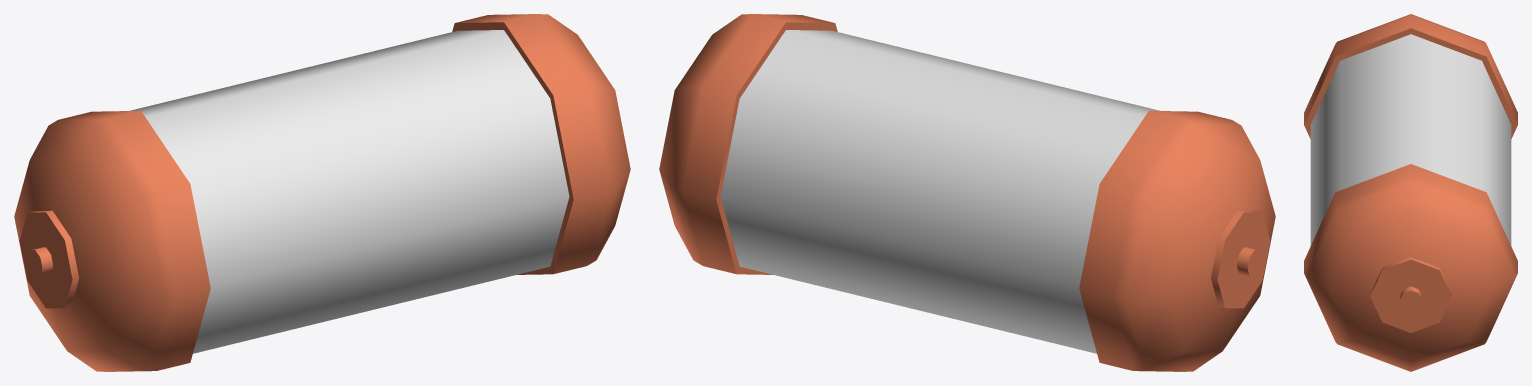
File: réservoir.fbx
3 views of the same model, side by side, from view 1: azimuth 30°, elevation 25°; view 2: azimuth 150°, elevation 25°; view 3: azimuth 270°, elevation 25° (orthographic). The views are drawn at different scales.
Parts seen in each view (by area): view 1: verre, Réservoir; view 2: verre, Réservoir; view 3: Réservoir, verre.
Part boxes in pixels (x1,y1,x2,y2): verre: [129, 30, 569, 353]; Réservoir: [14, 14, 630, 371]; verre: [720, 30, 1160, 353]; Réservoir: [659, 14, 1275, 371]; Réservoir: [1304, 14, 1517, 371]; verre: [1310, 34, 1511, 245].
Size of the model in its own units: 79.3 by 33.38 by 33.38.
